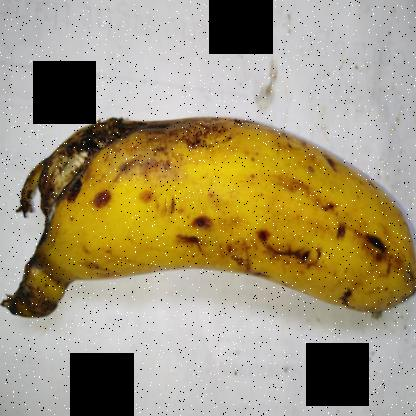ripe: (119, 87, 416, 348)
rotten: (13, 95, 186, 272)
